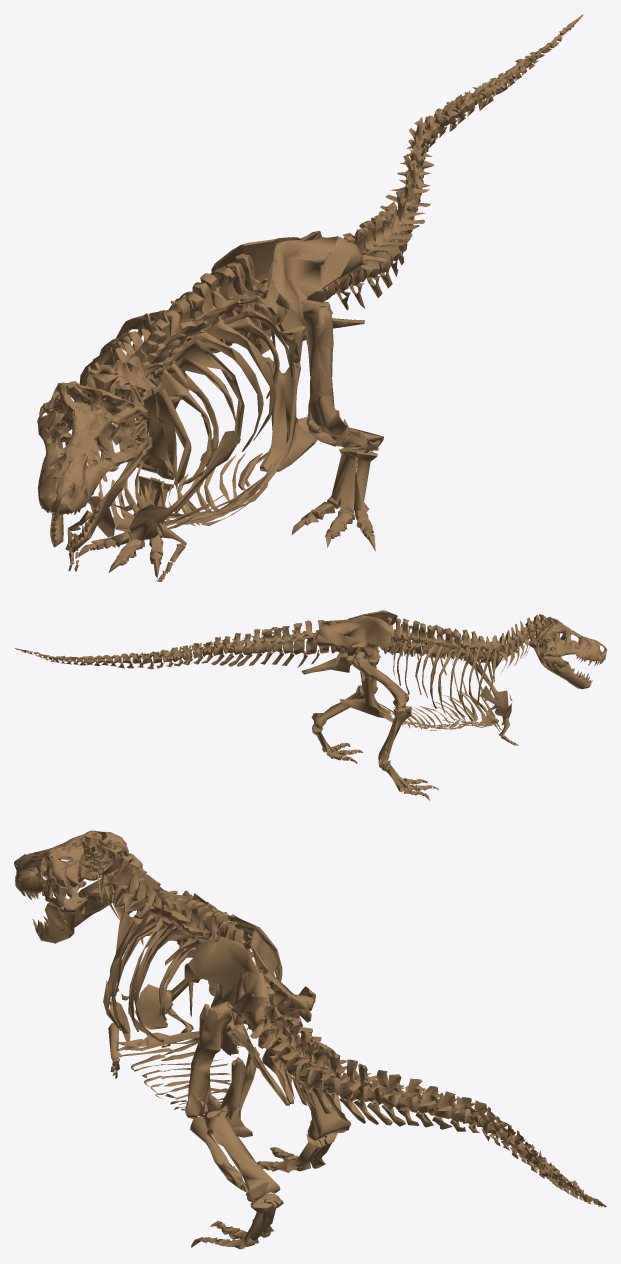
The model's file is field-sue-pr2081.glb.
3 renders of one model, top to bottom at view 1: azimuth 30°, elevation 25°; view 2: azimuth 150°, elevation 25°; view 3: azimuth 270°, elevation 25°, orthographic. The views are drawn at different scales.
Visible parts, largest first — view 1: Object_10; view 2: Object_10; view 3: Object_10.
Boxes of the visible parts, x1,y1,x2,y2 form: Object_10: [37, 14, 583, 581]; Object_10: [14, 610, 606, 800]; Object_10: [14, 830, 606, 1249].
Size of the model in its own units: 11.12 by 3.83 by 7.41.
